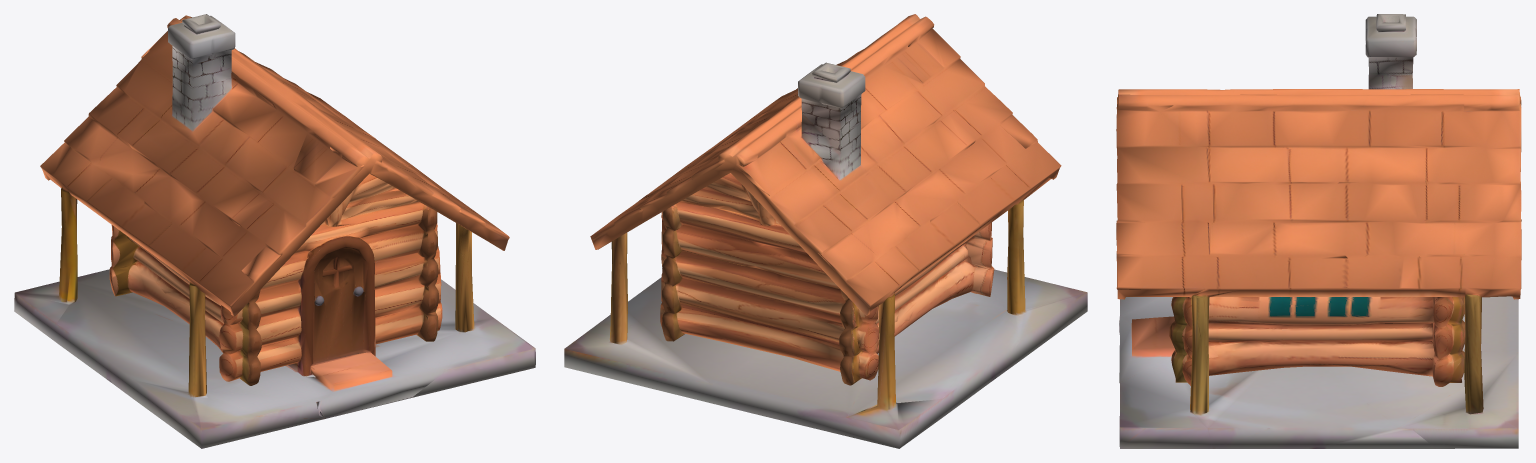
Rendered from cabin.glb.
The picture shows the model from 3 angles, left to right: view 1: azimuth 30°, elevation 25°; view 2: azimuth 150°, elevation 25°; view 3: azimuth 270°, elevation 25°; orthographic projection. The views are drawn at different scales.
Size of the model in its own units: 1.91 by 1.66 by 1.89.
1 material, 1 textured.
